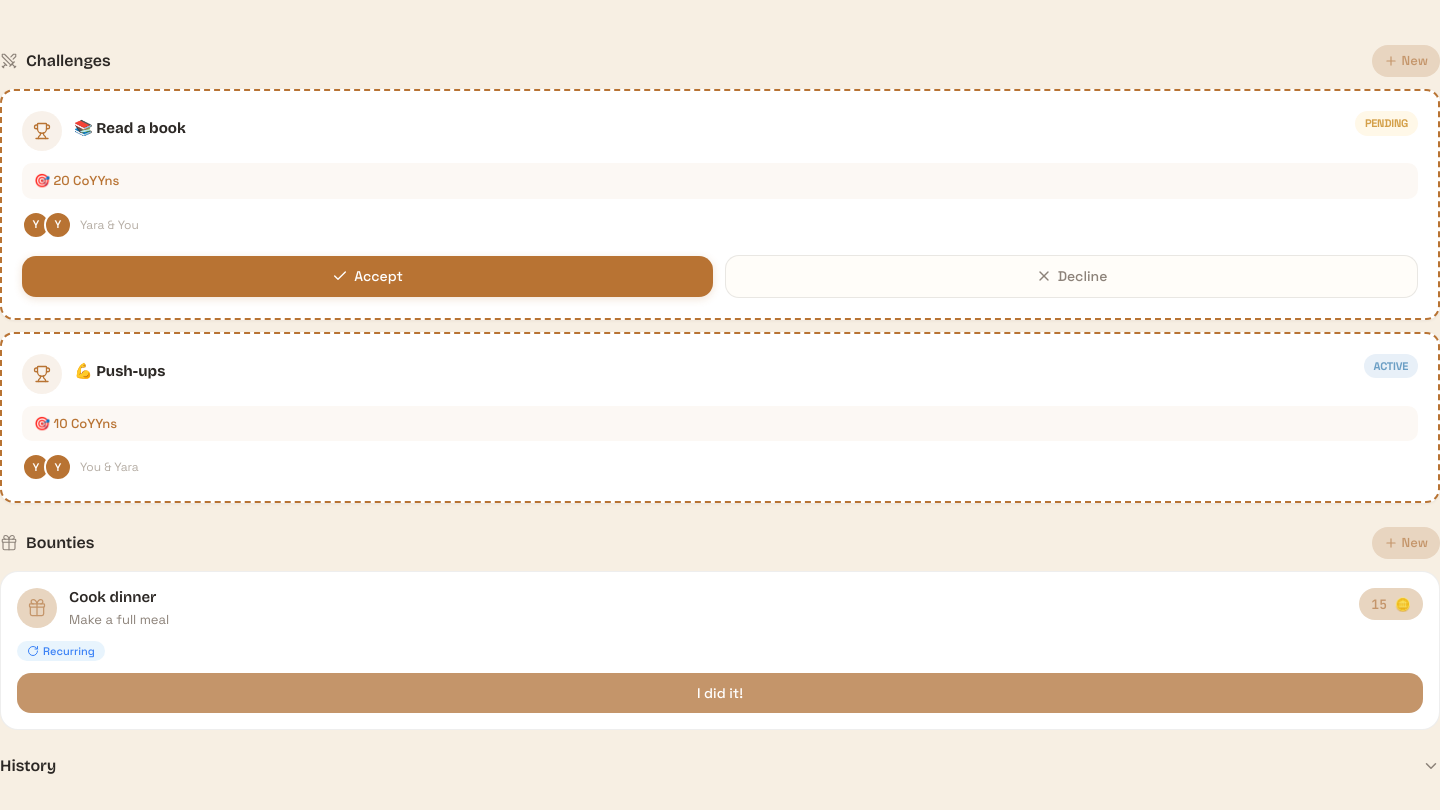
Test case: CoyynsTabPage › opens create bounty form on New button click
The image size is (1440, 810).
(page scrolled)
Click the button with test id "new-bounty-btn": (1406, 543) [1372, 527, 1439, 559]
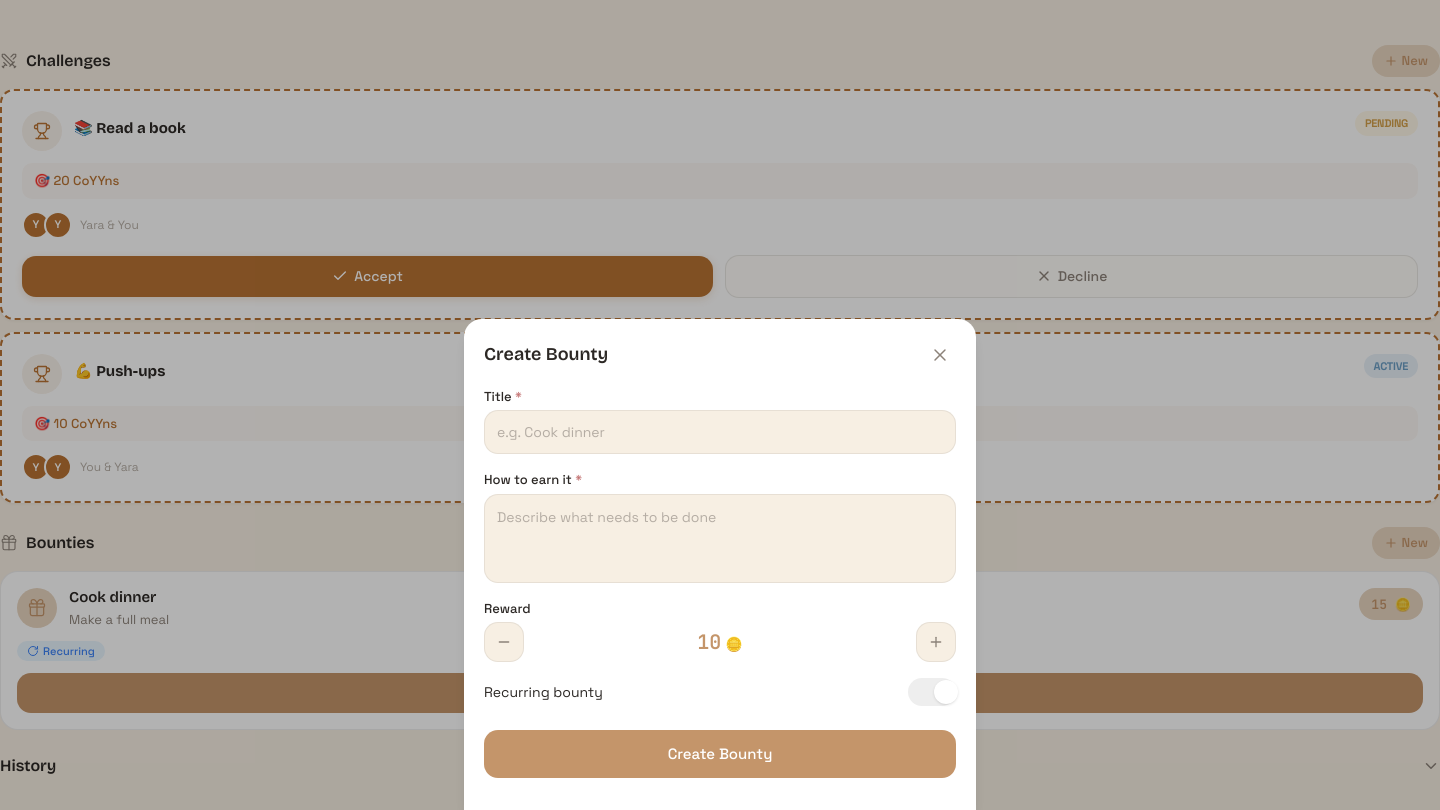
Expected: the dialog with test id "bounty-form-sheet" is shown, [464, 318, 976, 809]
